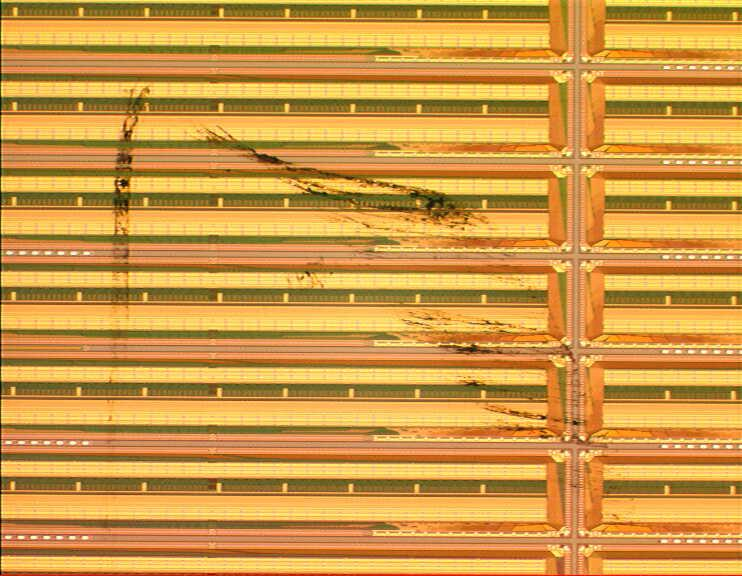SCRATCH: (100, 76, 645, 503)
